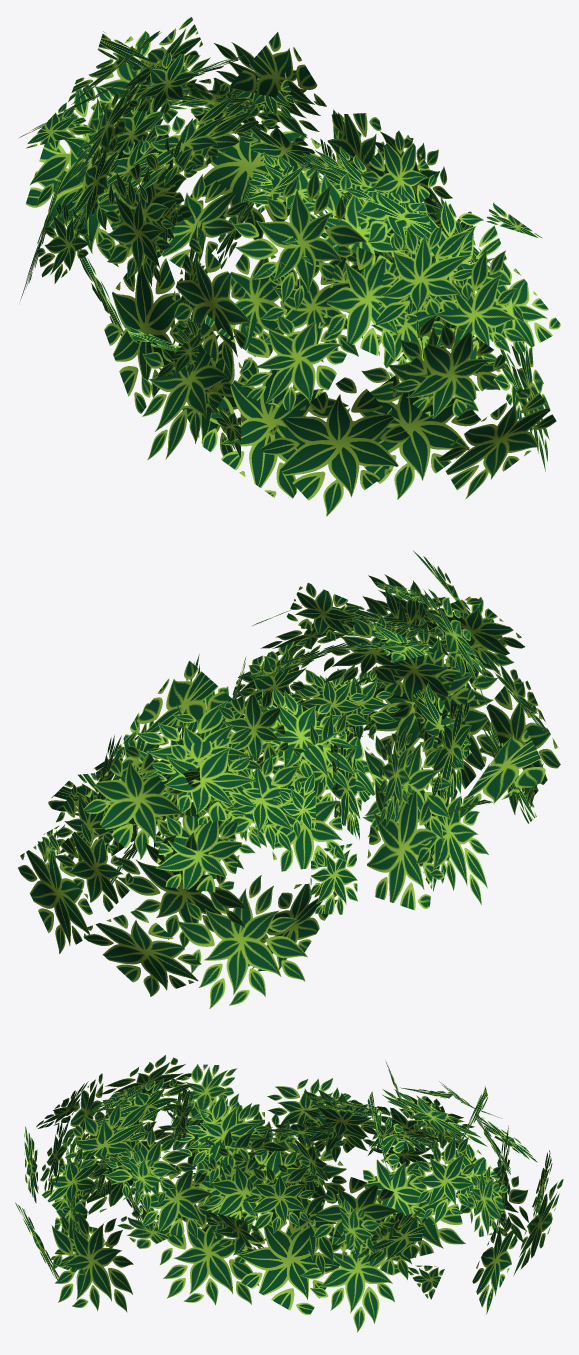
File: Bush2_LOD2.fbx
3 renders of one model, top to bottom at view 1: azimuth 30°, elevation 25°; view 2: azimuth 150°, elevation 25°; view 3: azimuth 270°, elevation 25°, orthographic. The views are drawn at different scales.
Parts seen in each view (by area): view 1: Bush2_LOD0.002; view 2: Bush2_LOD0.002; view 3: Bush2_LOD0.002.
Part boxes in pixels (<box>): Bush2_LOD0.002: <box>18,17,560,516</box>; Bush2_LOD0.002: <box>18,550,560,1008</box>; Bush2_LOD0.002: <box>15,1055,563,1332</box>.
Bounding box in the file's own units: 270 × 208 × 462.
